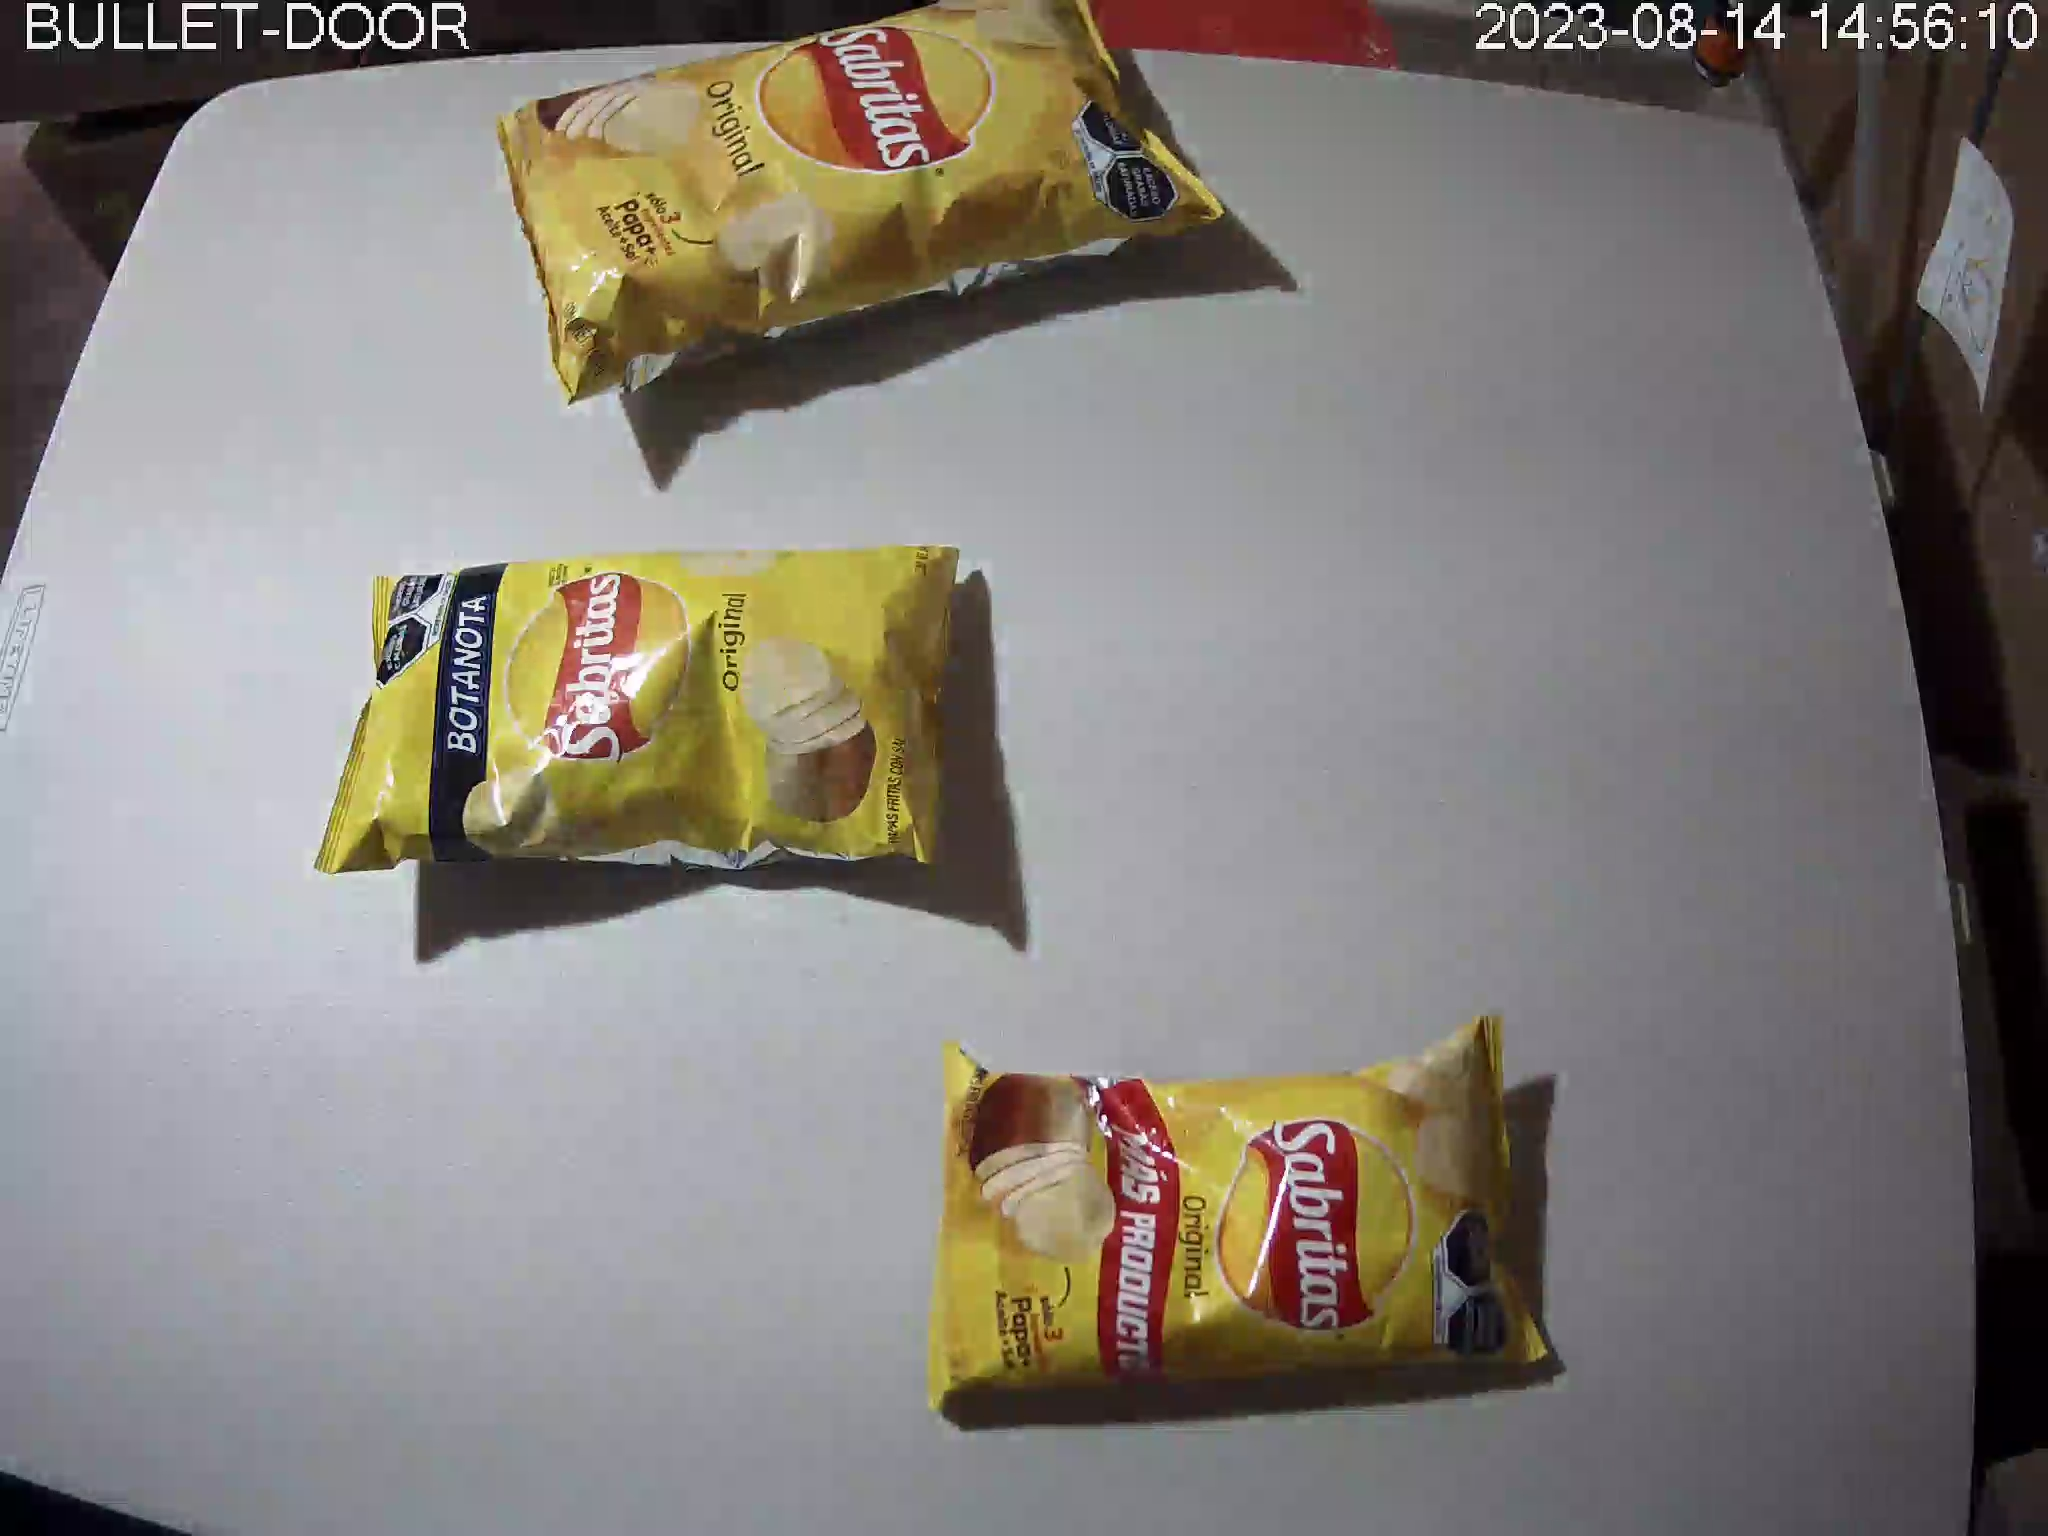Sabritas_160_F: (492, 2, 1229, 403)
Sabritas_45_F: (926, 1012, 1550, 1418)
Sabritas_64_F: (311, 547, 961, 874)
